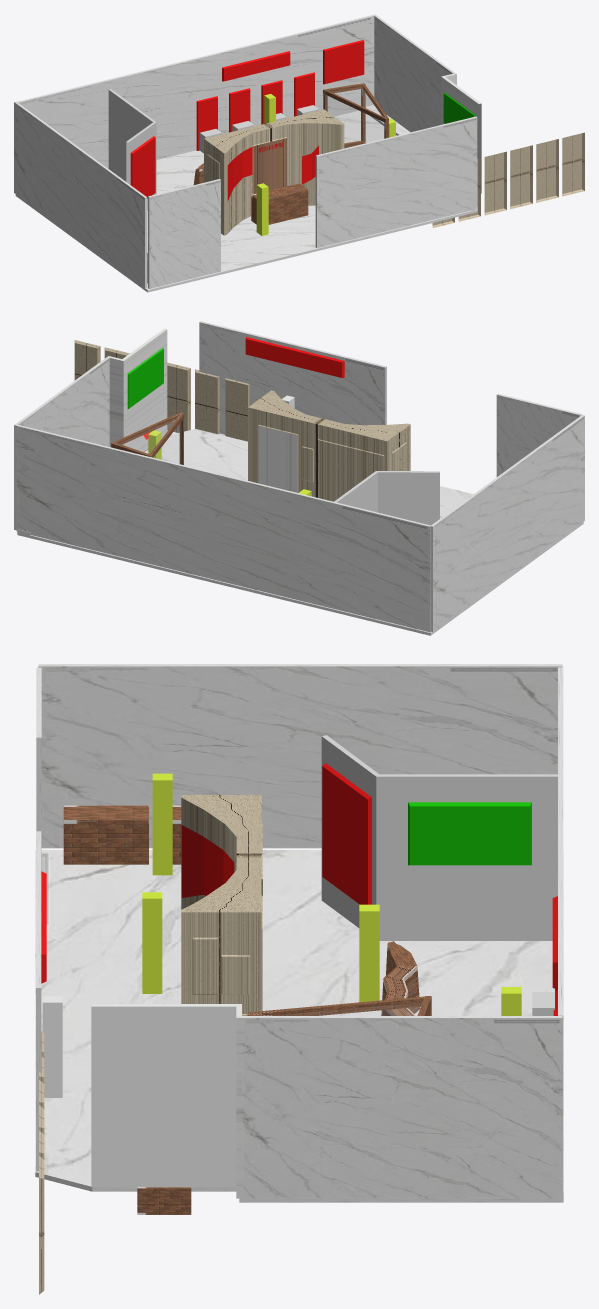
The model's file is 尺寸参考场景.FBX.
The picture shows the model from 3 angles, top to bottom: view 1: azimuth 30°, elevation 25°; view 2: azimuth 150°, elevation 25°; view 3: azimuth 270°, elevation 25°; orthographic projection. The views are drawn at different scales.
Parts seen in each view (by area): view 1: Box004, Box008, Box009, Box006, Plane002, Box005, Box027, Box051, 对象010, Box010, Box026, Box053 (+10 smaller); view 2: Box004, Box006, Box009, Plane002, Box008, Box027, Box051, Box005, Box043, Box016, Box025, 对象010; view 3: Box009, Box006, Box051, Plane002, Box052, Box053, Box012, 对象001, Box004, Box049, Box045, Box050 (+7 smaller).
Boxes of the visible parts, x1,y1,x2,y2 form: Box004: (17, 15, 374, 168); Box008: (315, 116, 477, 247); Box009: (15, 14, 481, 292); Box006: (14, 101, 147, 288); Plane002: (204, 109, 344, 235); Box005: (148, 179, 220, 288); Box027: (432, 132, 584, 227); Box051: (108, 89, 156, 210); 对象010: (328, 89, 383, 147); Box010: (251, 183, 308, 224); Box026: (323, 40, 364, 84); Box053: (130, 136, 155, 198); Box004: (16, 425, 431, 632); Box006: (430, 415, 584, 631); Box009: (14, 328, 583, 635); Plane002: (248, 390, 410, 501); Box008: (199, 321, 386, 434); Box027: (74, 340, 249, 441); Box051: (334, 471, 439, 525); Box005: (496, 393, 581, 476); Box043: (245, 337, 344, 377); Box016: (127, 348, 163, 408); Box025: (111, 412, 184, 464); 对象010: (123, 421, 180, 463); Box009: (35, 850, 563, 1202); Box006: (38, 664, 562, 848); Box051: (321, 735, 557, 940); Plane002: (181, 795, 262, 1015); Box052: (408, 802, 531, 865); Box053: (322, 763, 371, 904); Box012: (63, 805, 148, 864); 对象001: (181, 825, 234, 897); Box004: (558, 667, 563, 1197); Box049: (152, 773, 172, 875); Box045: (142, 892, 162, 993); Box050: (359, 904, 379, 1002).
Bounding box in the file's own units: 1684 × 386 × 876.
Materials: 8 (3 with a texture image).
